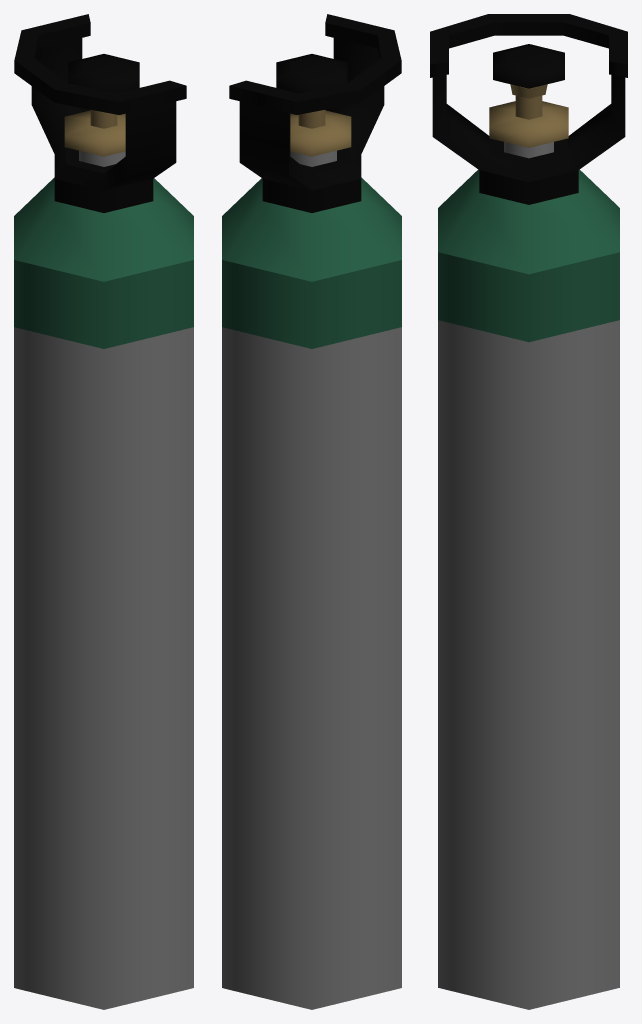
The model's file is oxygen.glb.
The picture shows the model from 3 angles, left to right: view 1: azimuth 30°, elevation 25°; view 2: azimuth 150°, elevation 25°; view 3: azimuth 270°, elevation 25°; orthographic projection.
Visible parts, largest first — view 1: Circle; view 2: Circle; view 3: Circle.
Boxes of the visible parts, bbox=[...] form: Circle: bbox=[14, 14, 193, 1009]; Circle: bbox=[222, 14, 401, 1009]; Circle: bbox=[430, 14, 627, 1009].
Size of the model in its own units: 0.2375 by 1.15 by 0.2239.
2 materials, 2 textured.
